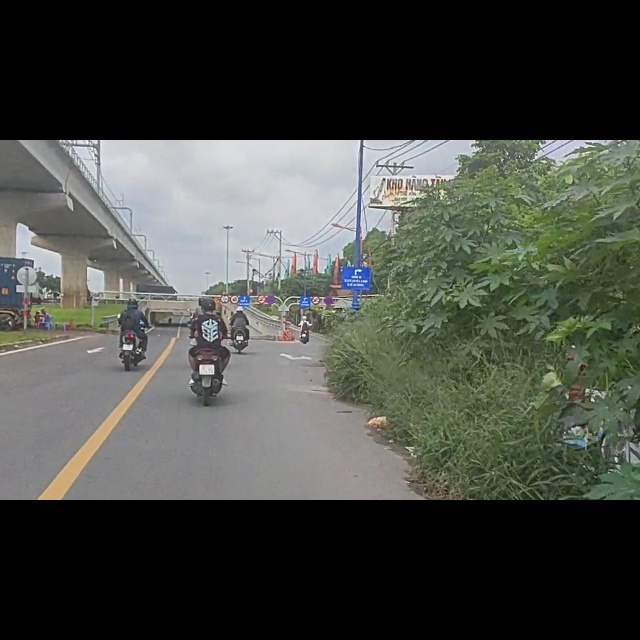bien_nguy_hiem: (311, 277, 321, 293), (324, 277, 334, 293), (231, 275, 240, 292), (221, 274, 230, 290), (267, 276, 276, 292), (257, 275, 266, 290)
